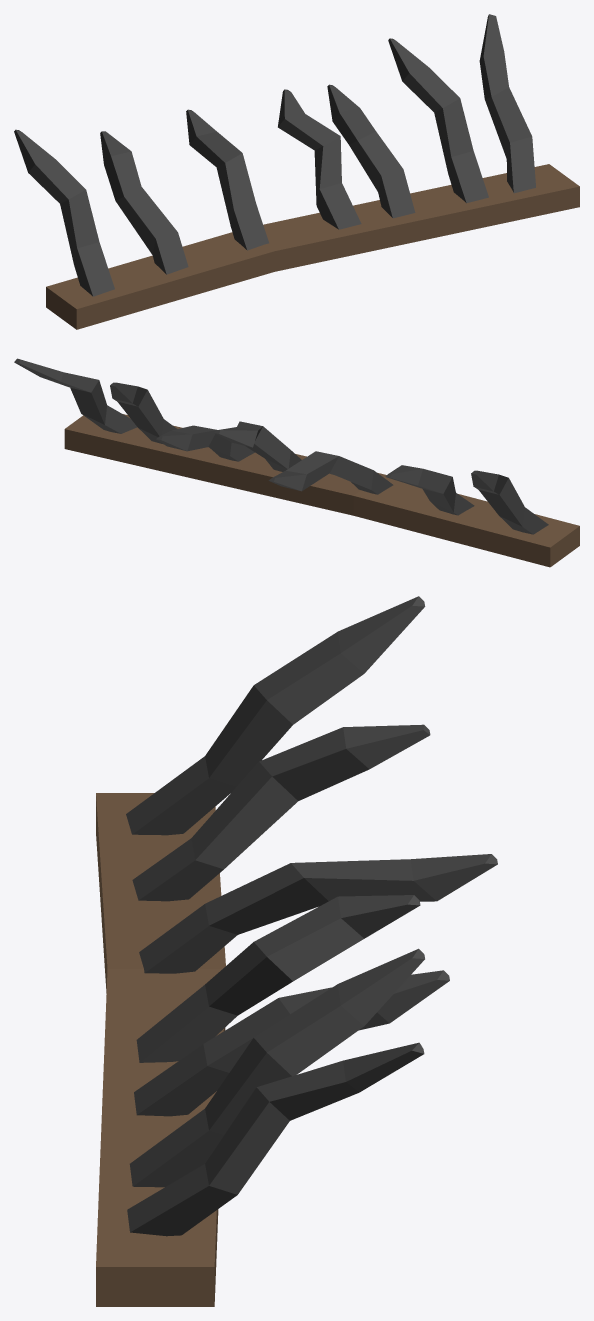
Rendered from Spikes_1.fbx.
The picture shows the model from 3 angles, top to bottom: view 1: azimuth 30°, elevation 25°; view 2: azimuth 150°, elevation 25°; view 3: azimuth 270°, elevation 25°; orthographic projection. The views are drawn at different scales.
Parts seen in each view (by area): view 1: Spikes_1; view 2: Spikes_1; view 3: Spikes_1.
Boxes of the visible parts, x1,y1,x2,y2 form: Spikes_1: [14, 14, 579, 329]; Spikes_1: [14, 358, 579, 567]; Spikes_1: [96, 596, 497, 1306].
Bounding box in the file's own units: 4.26 × 1.08 × 1.53.
